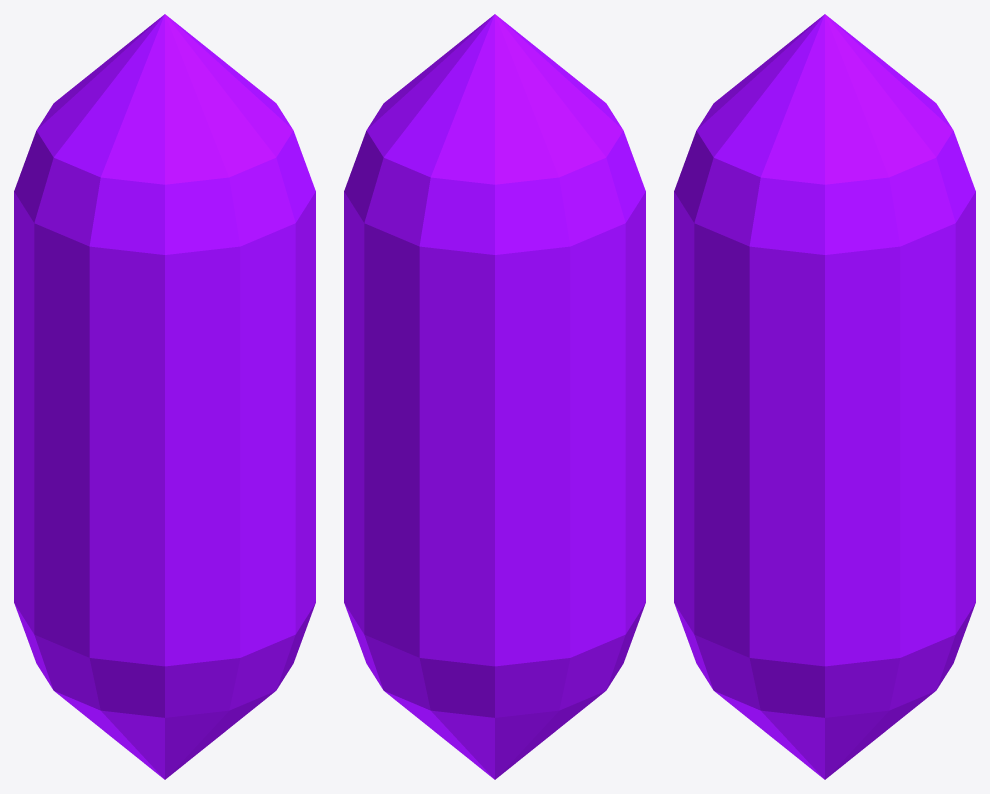
Rendered from amethyst.glb.
The picture shows the model from 3 angles, left to right: view 1: azimuth 30°, elevation 25°; view 2: azimuth 150°, elevation 25°; view 3: azimuth 270°, elevation 25°; orthographic projection.
Parts seen in each view (by area): view 1: Cylinder; view 2: Cylinder; view 3: Cylinder.
Part boxes in pixels (x1,y1,x2,y2): Cylinder: (14, 14, 315, 779); Cylinder: (344, 14, 645, 779); Cylinder: (674, 14, 975, 779).
Size of the model in its own units: 0.05 by 0.14 by 0.05.
